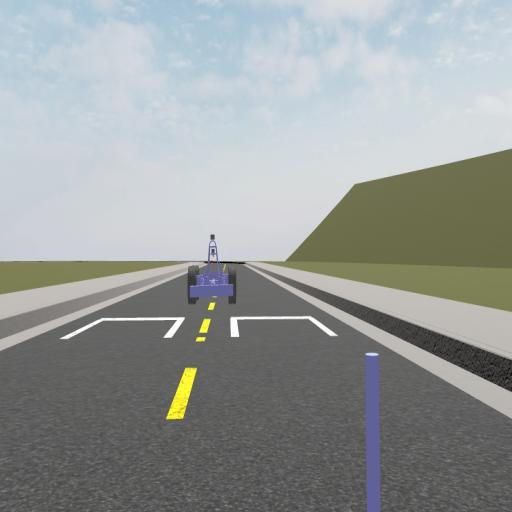ERP-42: (188, 234, 237, 302)
